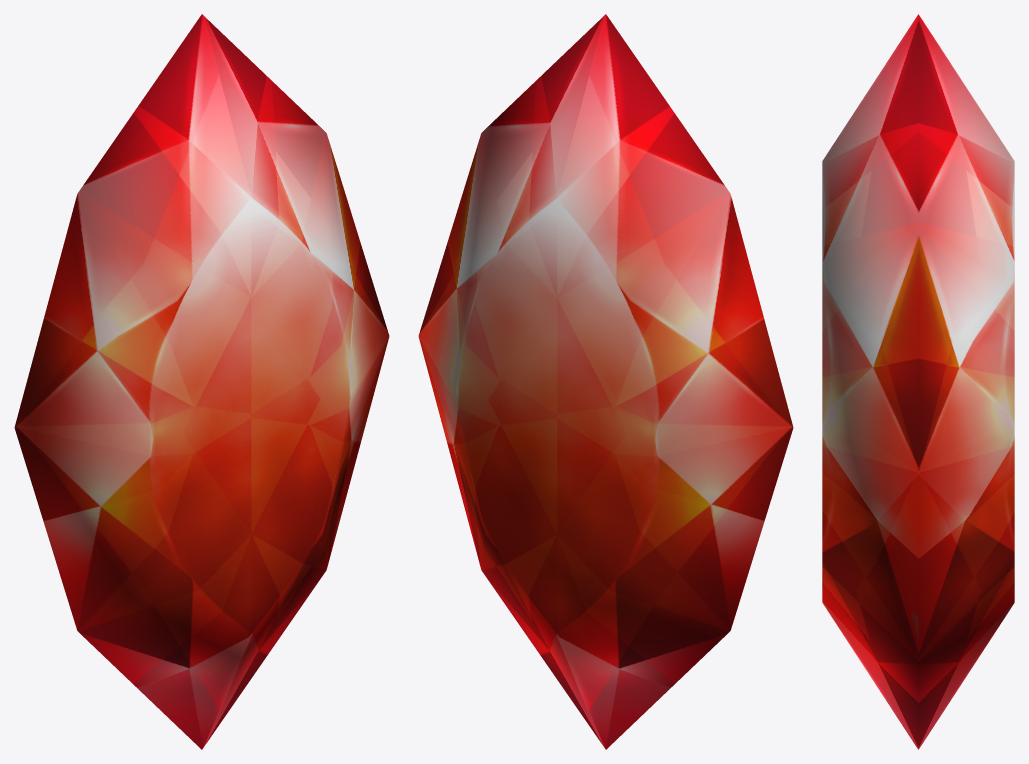
File: Gem-Marquise.fbx
3 views of the same model, side by side, from view 1: azimuth 30°, elevation 25°; view 2: azimuth 150°, elevation 25°; view 3: azimuth 270°, elevation 25° (orthographic).
Visible parts, largest first — view 1: Gem-Marquise; view 2: Gem-Marquise; view 3: Gem-Marquise.
Boxes of the visible parts, x1=… form: Gem-Marquise: x1=14, y1=14, x2=389, y2=749; Gem-Marquise: x1=418, y1=14, x2=793, y2=749; Gem-Marquise: x1=822, y1=14, x2=1014, y2=749.
Size of the model in its own units: 1.59 by 2.98 by 0.707.
